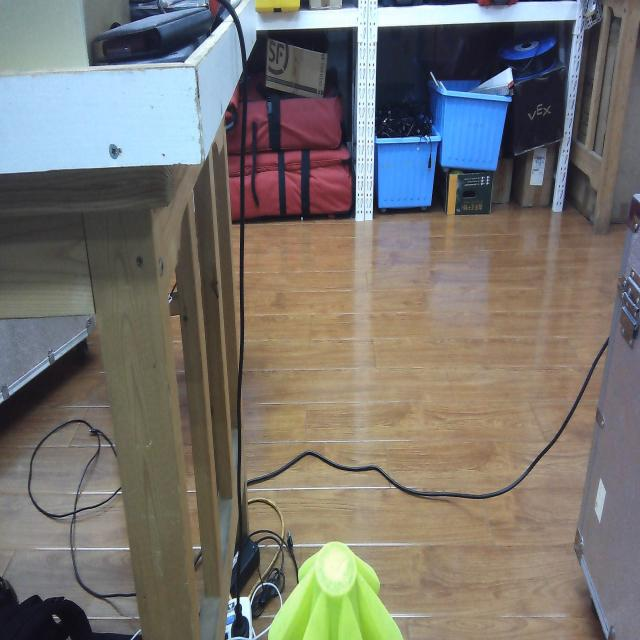Yellow-Stake-Head: (268, 540, 404, 640)
